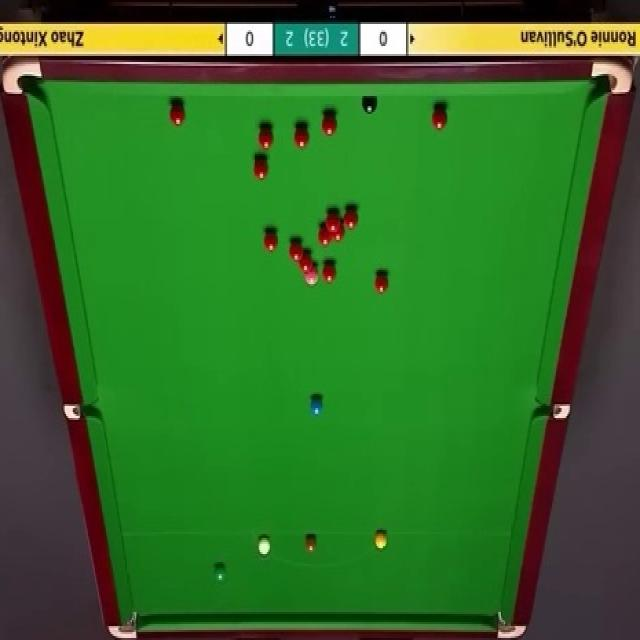black-ball: (358, 96, 376, 115)
blue-ball: (310, 398, 324, 415)
brown-ball: (304, 530, 317, 552)
green-ball: (215, 567, 225, 582)
pink-ball: (304, 266, 318, 286)
red-ball: (316, 221, 333, 247), (253, 154, 269, 181), (320, 112, 338, 136), (294, 124, 309, 152), (167, 101, 183, 127), (432, 107, 449, 131), (343, 206, 360, 230), (375, 270, 388, 294), (326, 210, 340, 232), (258, 127, 272, 149), (290, 238, 303, 260), (331, 222, 345, 241), (299, 254, 313, 273), (264, 232, 278, 250), (324, 264, 337, 283)
white-ball: (259, 535, 272, 555)
yellow-ball: (375, 530, 387, 550)
